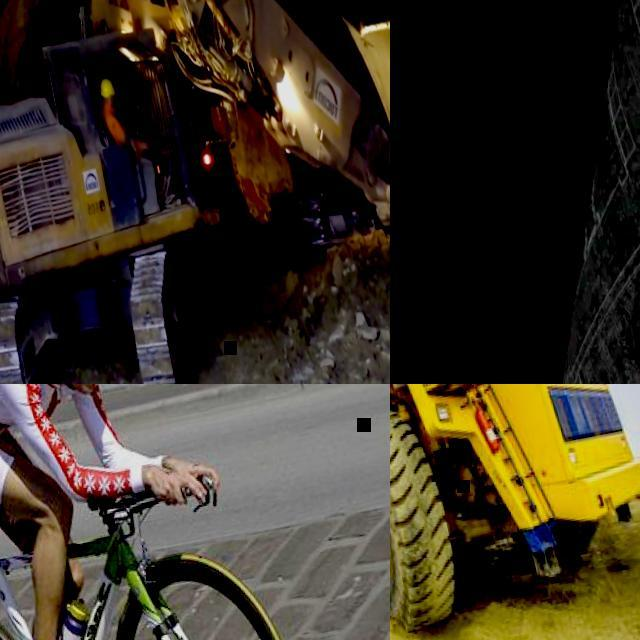helmet: (98, 78, 116, 98)
vest: (98, 101, 126, 146)
